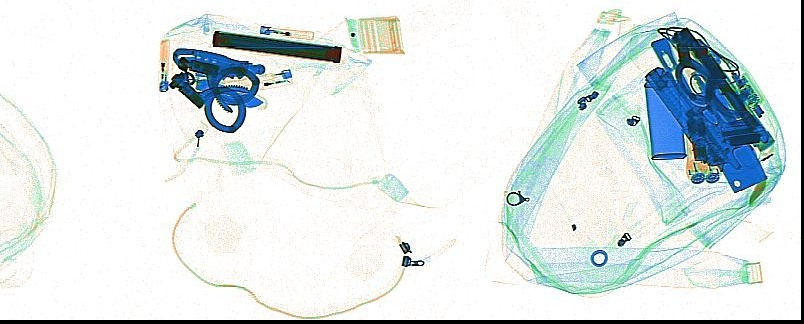handcuffs: (169, 45, 260, 132), (669, 24, 748, 120)
knife: (650, 37, 768, 193), (191, 77, 268, 110), (188, 47, 257, 79)
lighter: (256, 23, 314, 41), (245, 70, 292, 90), (157, 39, 172, 93)
zippooil: (643, 73, 686, 161)
